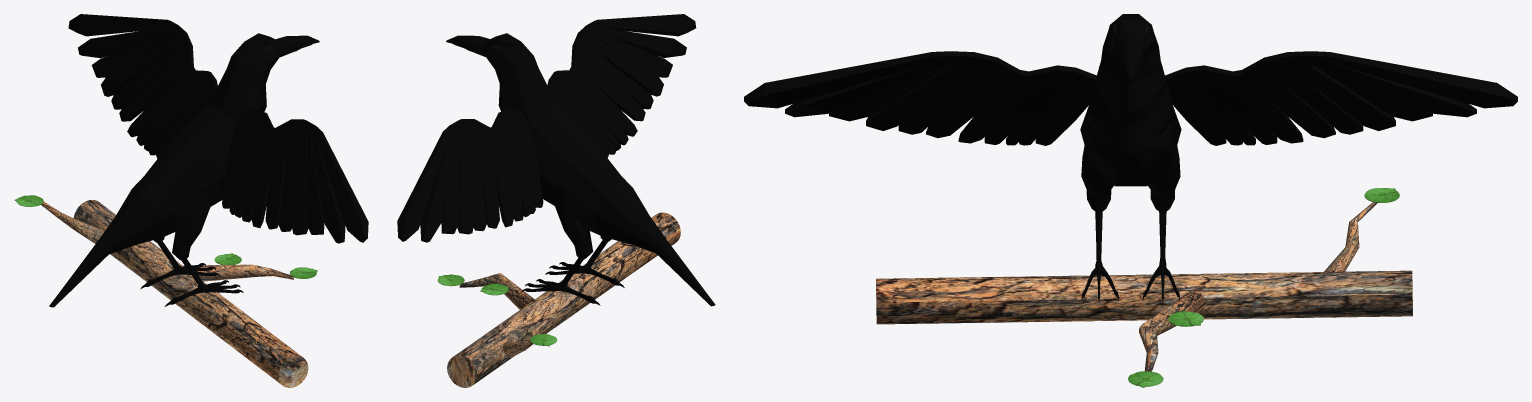
File: Crow_diffrent.obj
3 views of the same model, side by side, from view 1: azimuth 30°, elevation 25°; view 2: azimuth 150°, elevation 25°; view 3: azimuth 270°, elevation 25° (orthographic). The views are drawn at different scales.
Visible parts, largest first — view 1: Cylinder, Circle_Circle.004, Circle.001_Circle.006, Circle.002_Circle.007; view 2: Cylinder, Circle_Circle.004, Circle.001_Circle.006, Circle.002_Circle.007; view 3: Cylinder, Circle_Circle.004, Circle.001_Circle.006, Circle.002_Circle.007.
Boxes of the visible parts, <box> form: Cylinder: <box>49,14,368,307</box>; Circle_Circle.004: <box>74,200,308,387</box>; Circle.001_Circle.006: <box>183,264,293,281</box>; Circle.002_Circle.007: <box>41,201,104,243</box>; Cylinder: <box>397,14,715,306</box>; Circle_Circle.004: <box>447,212,680,387</box>; Circle.001_Circle.006: <box>459,273,534,309</box>; Circle.002_Circle.007: <box>503,336,533,357</box>; Cylinder: <box>744,14,1517,303</box>; Circle_Circle.004: <box>876,270,1412,324</box>; Circle.001_Circle.006: <box>1139,291,1205,371</box>; Circle.002_Circle.007: <box>1324,202,1377,271</box>.
Bounding box in the file's own units: 0.7708 × 0.7107 × 1.44.
Materials: 8 (7 with a texture image).
